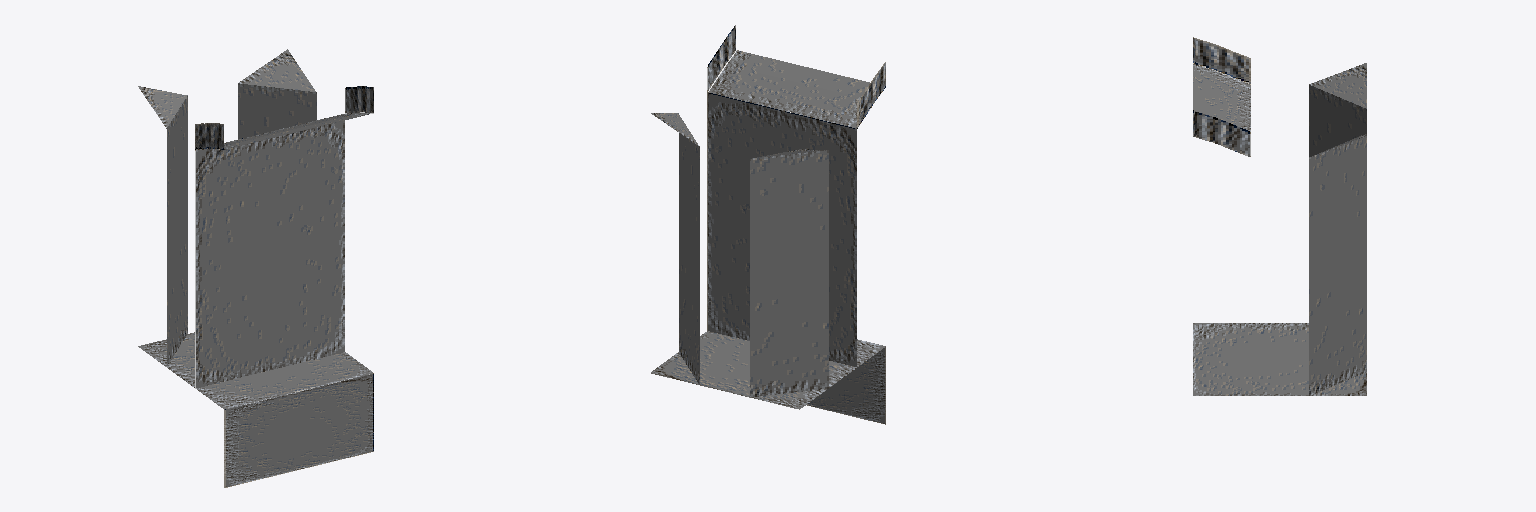
3 renders of one model, left to right at view 1: azimuth 30°, elevation 25°; view 2: azimuth 150°, elevation 25°; view 3: azimuth 270°, elevation 25°, orthographic.
Visible parts, largest first — view 1: WallT polySurface11, WallT WallEnd_0001:polySurface18, WallT WallCross_0000:polySurface13, WallT WallCross_0000:polySurface20, WallT polySurface20, WallT pCube19, polySurface21 WallT, WallT WallCross_0000:polySurface21; view 2: WallT polySurface11, WallT WallCross_0000:polySurface20, WallT pCube19, WallT WallCross_0000:polySurface13, WallT polySurface20, WallT WallEnd_0001:polySurface18; view 3: WallT polySurface20, WallT WallCross_0000:polySurface13, WallT pCube19, WallT WallCross_0000:polySurface20, WallT WallCross_0000:polySurface21.
Part boxes in pixels (bbox=[...]): WallT polySurface11: bbox=[195, 121, 344, 388]; WallT WallEnd_0001:polySurface18: bbox=[224, 373, 373, 487]; WallT WallCross_0000:polySurface13: bbox=[138, 332, 372, 409]; WallT WallCross_0000:polySurface20: bbox=[167, 96, 187, 365]; WallT polySurface20: bbox=[238, 83, 316, 138]; WallT pCube19: bbox=[195, 86, 373, 149]; polySurface21 WallT: bbox=[239, 49, 315, 91]; WallT WallCross_0000:polySurface21: bbox=[138, 86, 187, 128]; WallT polySurface11: bbox=[707, 92, 856, 366]; WallT WallCross_0000:polySurface20: bbox=[750, 150, 828, 396]; WallT pCube19: bbox=[707, 25, 885, 128]; WallT WallCross_0000:polySurface13: bbox=[651, 331, 885, 409]; WallT polySurface20: bbox=[679, 133, 699, 384]; WallT WallEnd_0001:polySurface18: bbox=[807, 347, 885, 424]; WallT polySurface20: bbox=[1309, 136, 1366, 395]; WallT WallCross_0000:polySurface13: bbox=[1193, 323, 1366, 395]; WallT pCube19: bbox=[1193, 37, 1250, 156]; WallT WallCross_0000:polySurface20: bbox=[1309, 85, 1366, 156]; WallT WallCross_0000:polySurface21: bbox=[1309, 63, 1366, 108].
Size of the model in its own units: 6 by 13.93 by 6.
Materials: 3 (1 with a texture image).